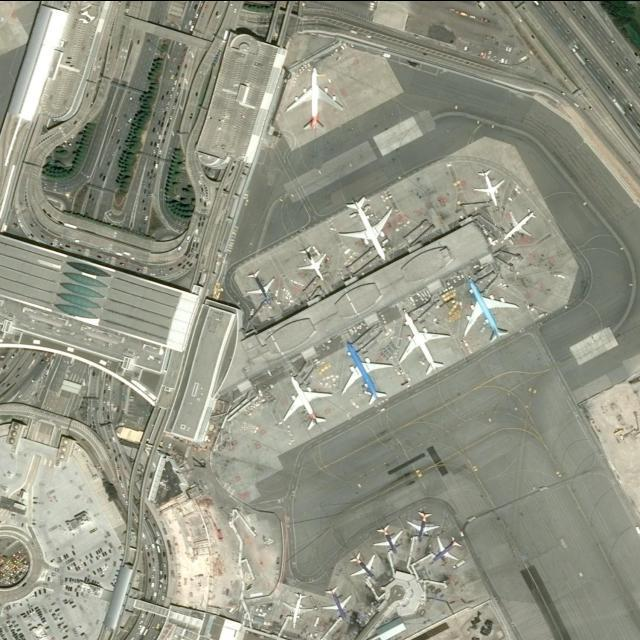Aircraft: (339, 337, 395, 405), (286, 66, 341, 131), (339, 195, 393, 259), (463, 279, 515, 345), (398, 307, 448, 375), (285, 375, 332, 435), (503, 206, 537, 241), (299, 244, 327, 281), (476, 167, 503, 200), (246, 268, 274, 298)
